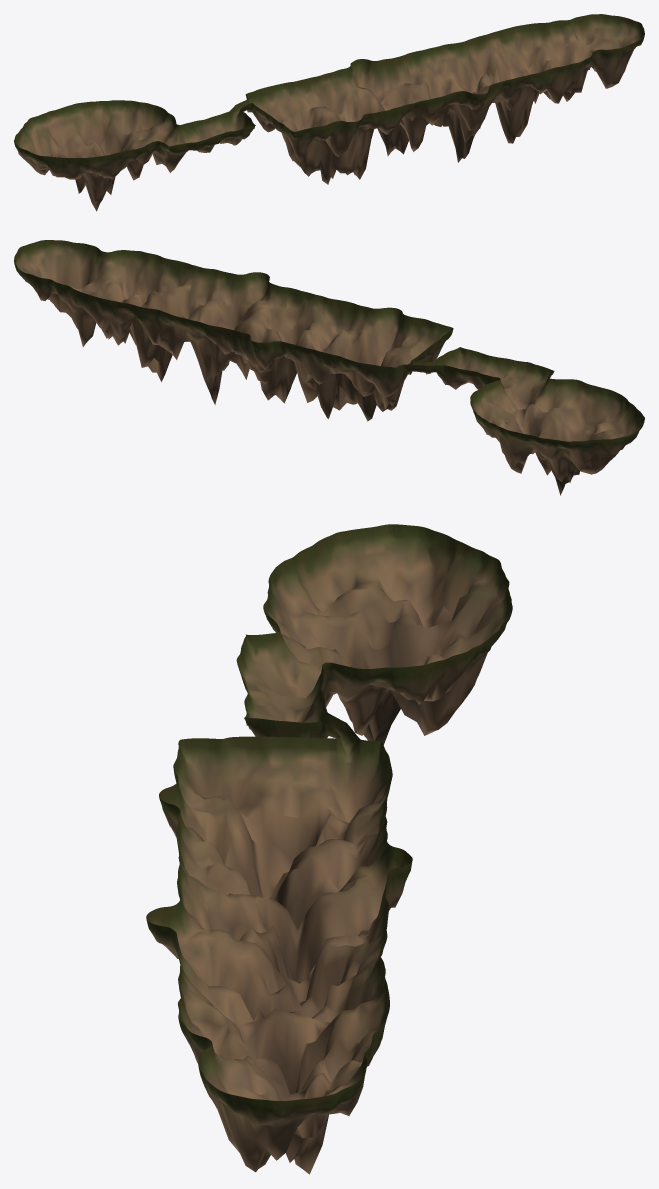
Rendered from SM_H01_IslandRock.fbx.
3 renders of one model, top to bottom at view 1: azimuth 30°, elevation 25°; view 2: azimuth 150°, elevation 25°; view 3: azimuth 270°, elevation 25°, orthographic. The views are drawn at different scales.
Parts seen in each view (by area): view 1: SM_H01_IslandRock; view 2: SM_H01_IslandRock; view 3: SM_H01_IslandRock.
Boxes of the visible parts, bbox=[...] form: SM_H01_IslandRock: bbox=[14, 14, 644, 211]; SM_H01_IslandRock: bbox=[14, 240, 644, 495]; SM_H01_IslandRock: bbox=[146, 524, 512, 1174].
Size of the model in its own units: 579 by 91.79 by 155.
